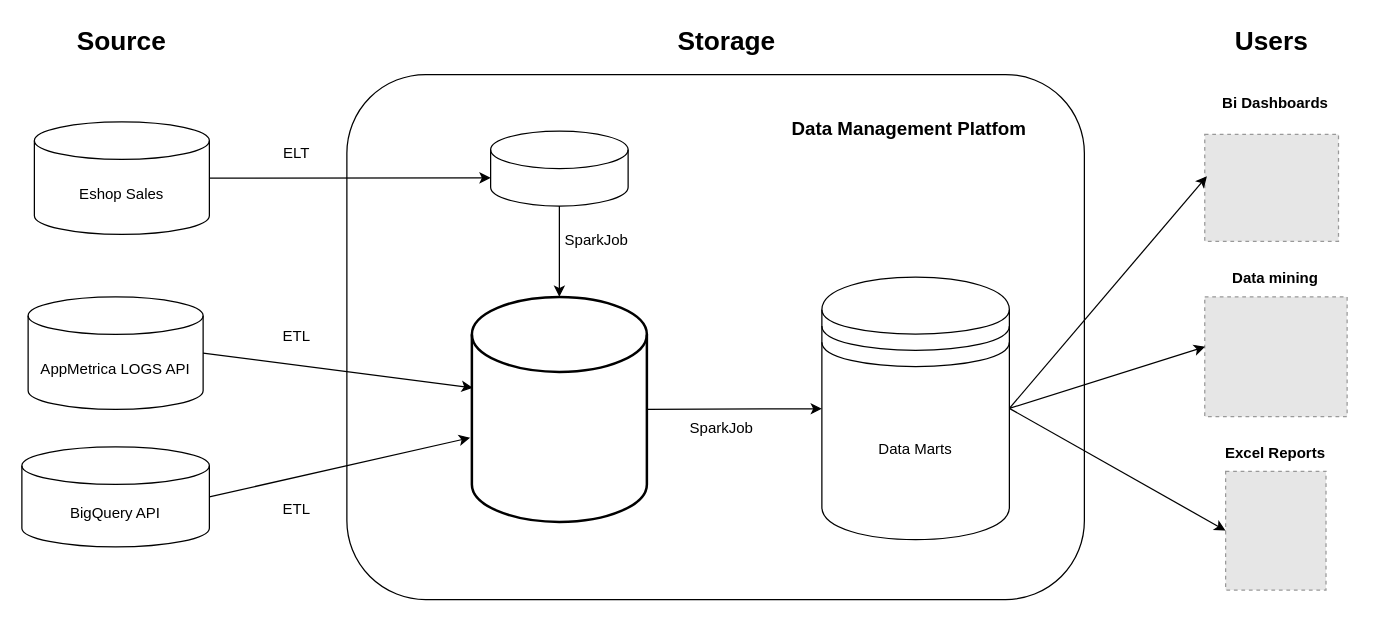
Image size: 1375x621. Some labels were removed from this diagram. Grey dashed boxes stand in for pictures. The shapes that lost their labels are listed below. From the top down, each one's centre as x and y in pixels, then its label:
At (x=558, y=168): "Postgres".
At (x=559, y=408): "Data Warehouse".
